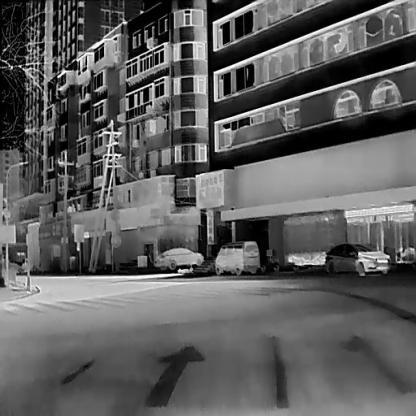car: (322, 243, 392, 276), (214, 240, 260, 274), (153, 246, 203, 268)
